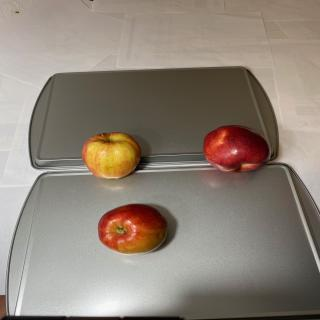Apple: (97, 203, 168, 255), (203, 124, 271, 172), (81, 132, 141, 179)
